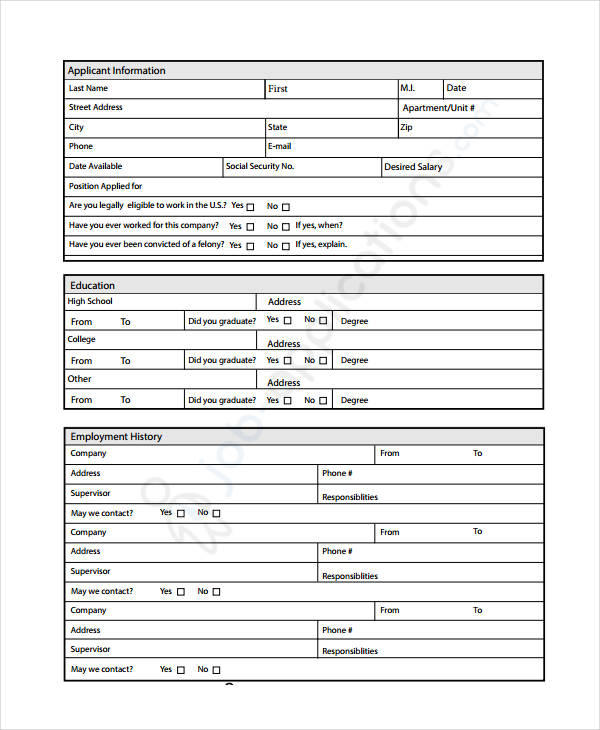table: (64, 427, 544, 680), (63, 61, 543, 262), (63, 277, 542, 409)
